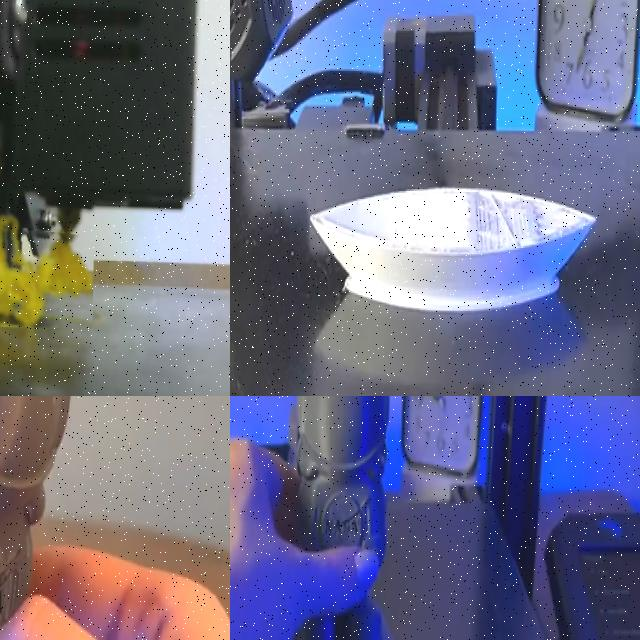spaghetti: (0, 222, 94, 329)
